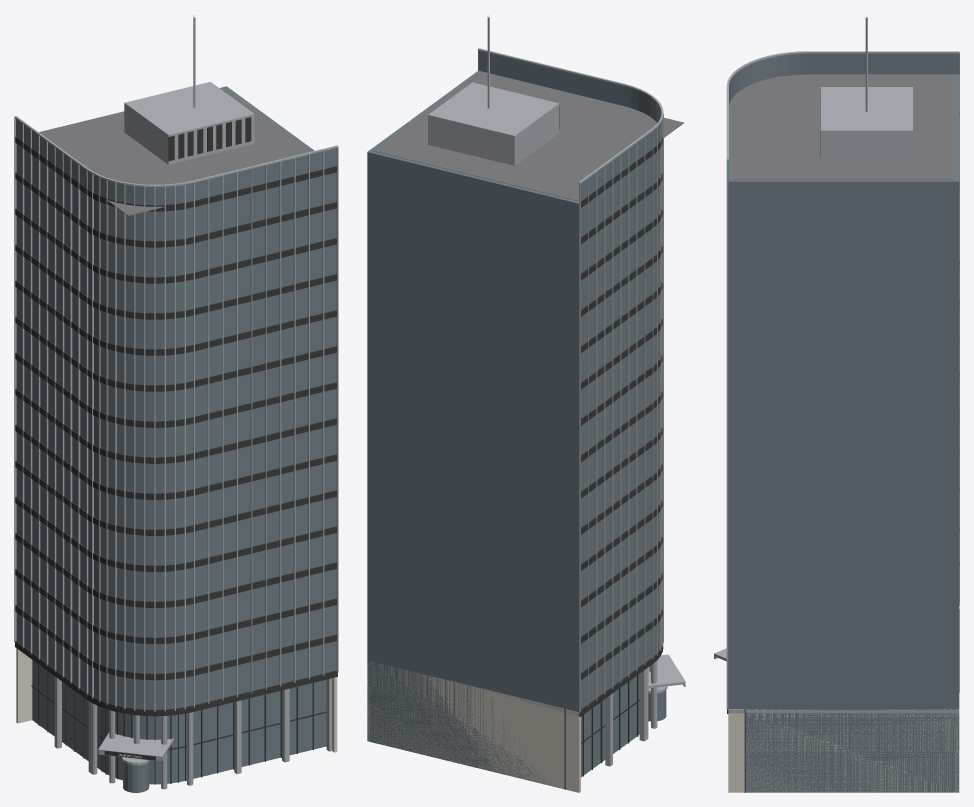
Rendered from corner_glass.glb.
The picture shows the model from 3 angles, left to right: view 1: azimuth 30°, elevation 25°; view 2: azimuth 150°, elevation 25°; view 3: azimuth 270°, elevation 25°; orthographic projection. The views are drawn at different scales.
Visible parts, largest first — view 1: corner_glass; view 2: corner_glass; view 3: corner_glass.
Part boxes in pixels (x1=…): corner_glass: x1=14, y1=14, x2=338, y2=792; corner_glass: x1=367, y1=14, x2=685, y2=792; corner_glass: x1=714, y1=14, x2=959, y2=792.
Size of the model in its own units: 23.29 by 70.65 by 21.29.
